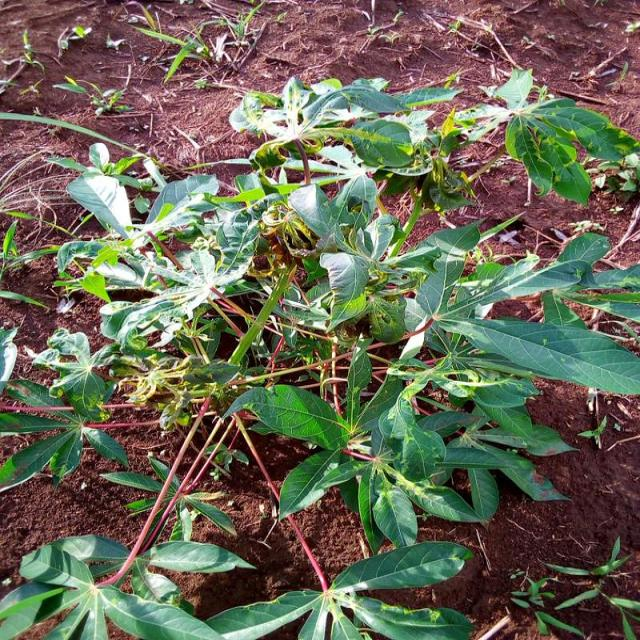cassava leaf: (1, 66, 638, 637)
